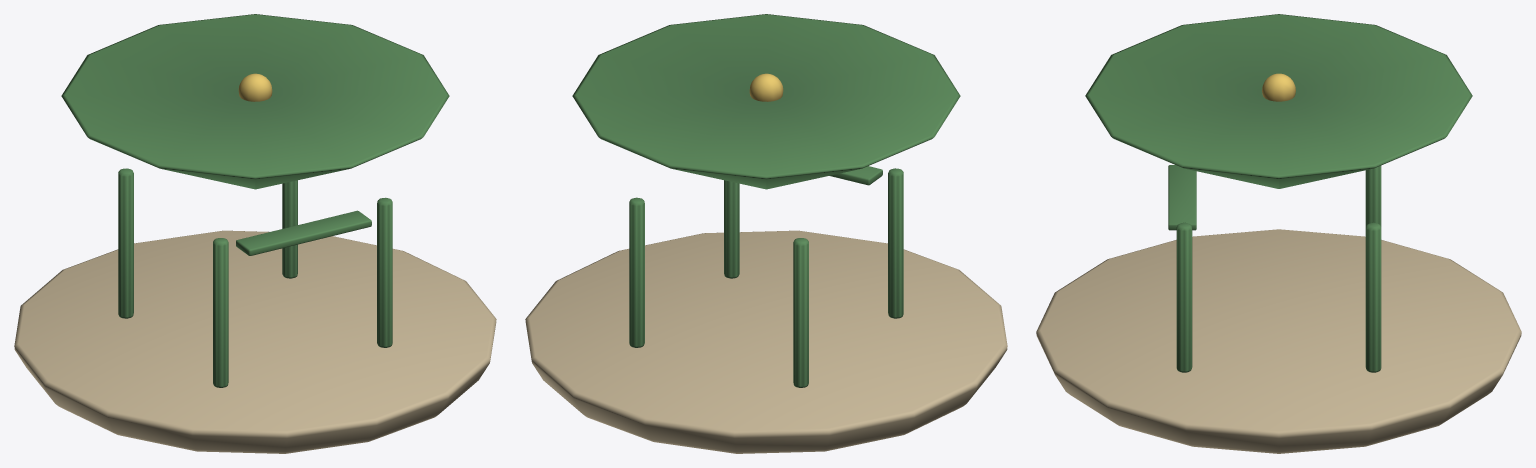
The picture shows the model from 3 angles, left to right: view 1: azimuth 30°, elevation 25°; view 2: azimuth 150°, elevation 25°; view 3: azimuth 270°, elevation 25°; orthographic projection.
Parts seen in each view (by area): view 1: landmark_47beac92; view 2: landmark_47beac92; view 3: landmark_47beac92.
Part boxes in pixels (x1,y1,x2,y2): landmark_47beac92: [14, 14, 496, 453]; landmark_47beac92: [525, 14, 1007, 453]; landmark_47beac92: [1036, 14, 1521, 453].
Bounding box in the file's own units: 5.13 × 3.33 × 5.13.
